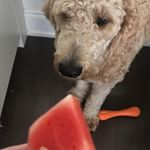puppy: (40, 1, 144, 90)
